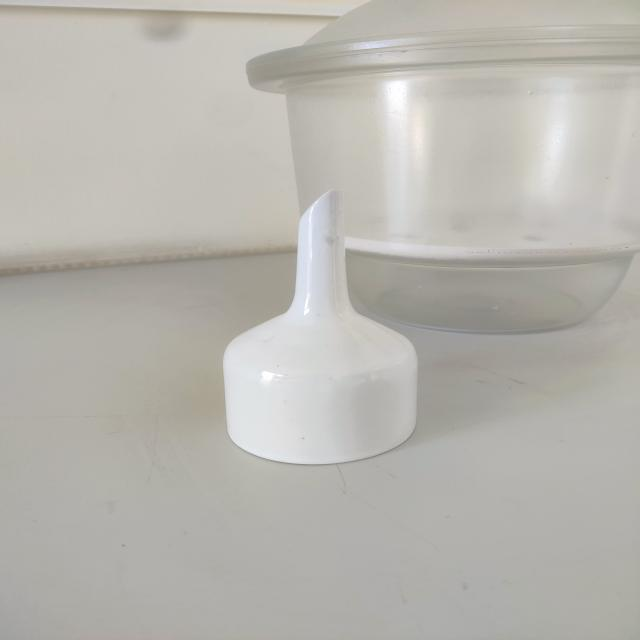Buchner_Funnel: (197, 178, 447, 485)
